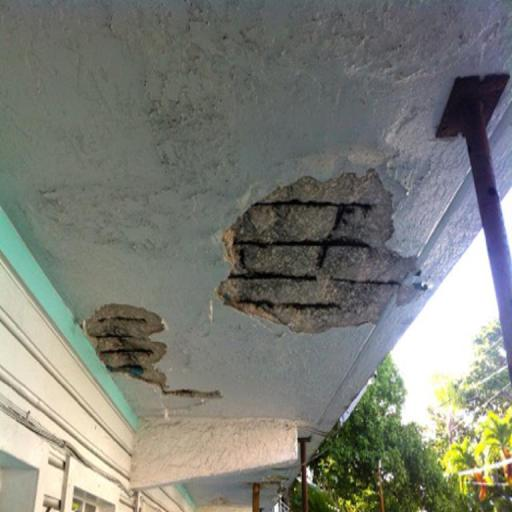spalling: (218, 173, 423, 332), (82, 300, 224, 401)
